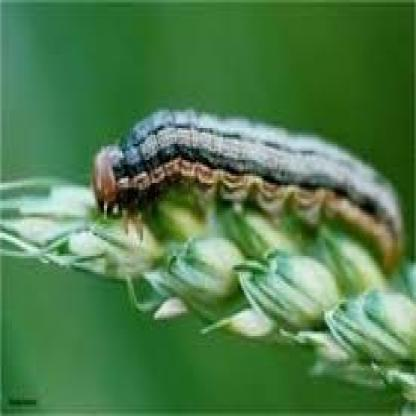armyworm: (89, 100, 416, 273)
